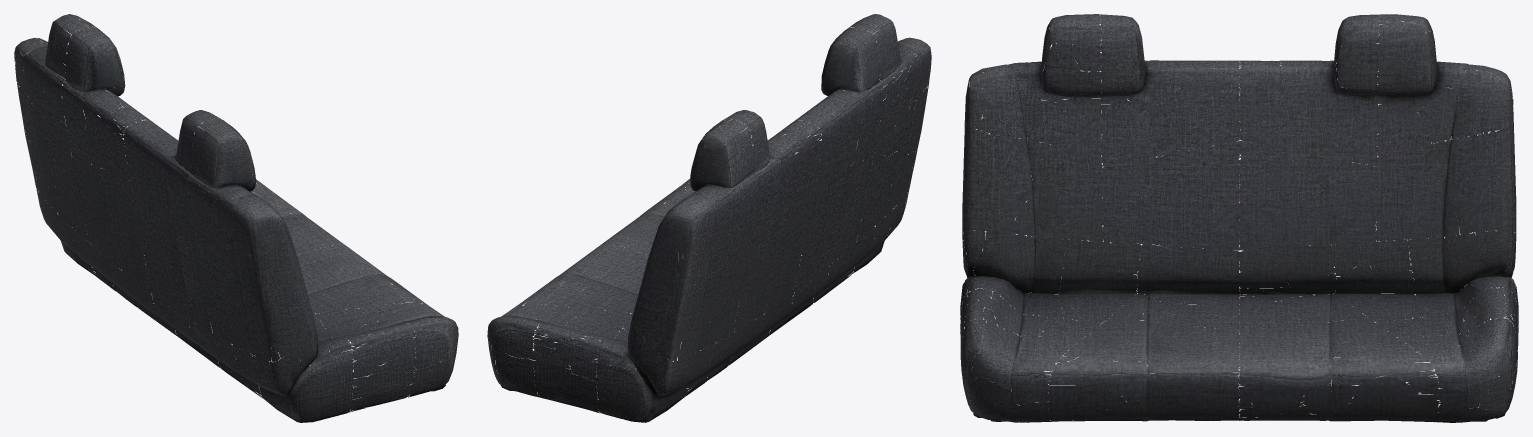
The model's file is car_bench_prop.glb.
3 renders of one model, left to right at view 1: azimuth 30°, elevation 25°; view 2: azimuth 150°, elevation 25°; view 3: azimuth 270°, elevation 25°, orthographic. The views are drawn at different scales.
Parts seen in each view (by area): view 1: prop_car_seat; view 2: prop_car_seat; view 3: prop_car_seat.
Part boxes in pixels (<box>): prop_car_seat: <box>14,14,458,422</box>; prop_car_seat: <box>487,14,931,422</box>; prop_car_seat: <box>960,14,1518,422</box>.
Size of the model in its own units: 0.5129 by 0.5876 by 0.9796.
Materials: 1 (1 with a texture image).
